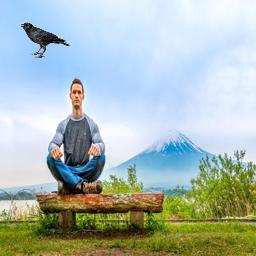Crow: (20, 22, 70, 58)
